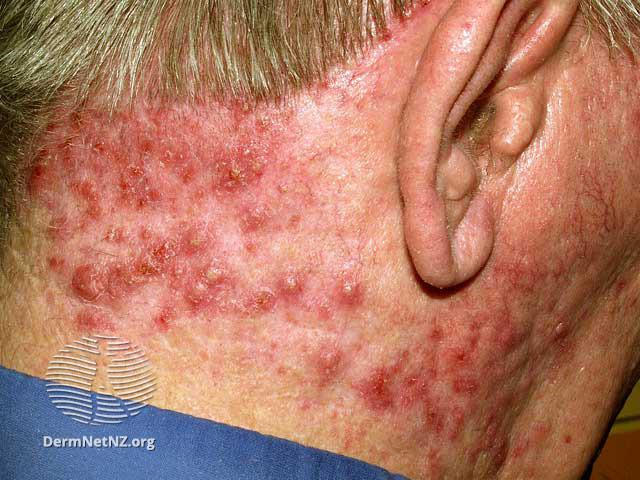Folliculitis: (15, 100, 637, 458)
